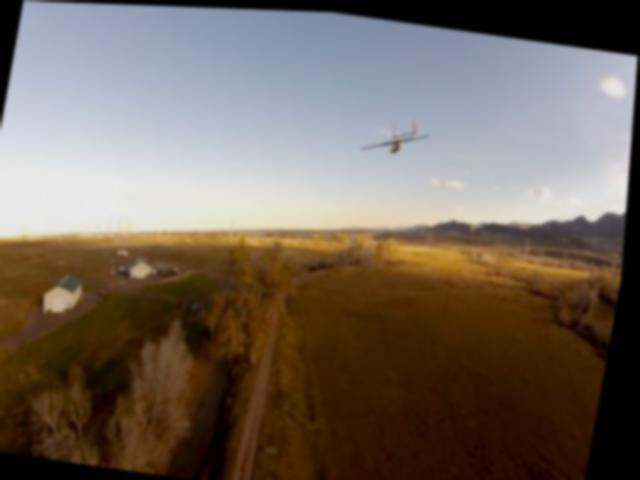uav: (361, 114, 436, 159)
